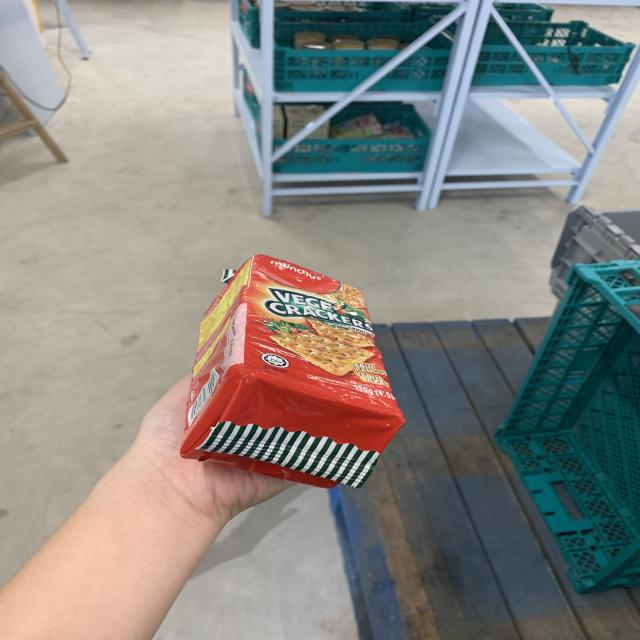object_name: (201, 260, 383, 486)
